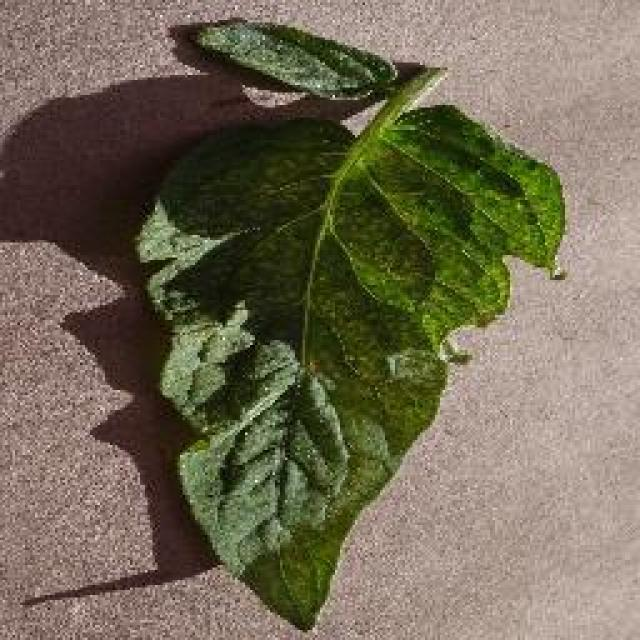Tomato___Spider_mites Two-spotted_spider_mite: (138, 20, 562, 628)
